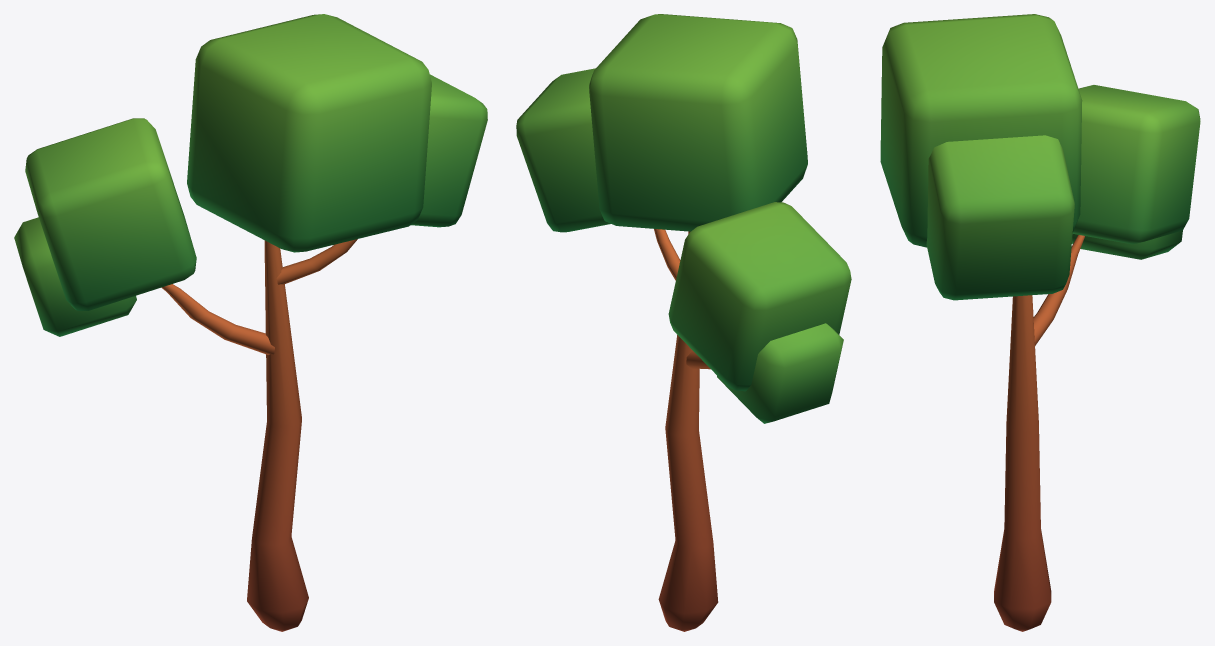
Rendered from Tree_2_C.glb.
3 views of the same model, side by side, from view 1: azimuth 30°, elevation 25°; view 2: azimuth 150°, elevation 25°; view 3: azimuth 270°, elevation 25° (orthographic). The views are drawn at different scales.
Parts seen in each view (by area): view 1: Tree_2_C_Color1; view 2: Tree_2_C_Color1; view 3: Tree_2_C_Color1.
Part boxes in pixels (left/top/right/bottom): Tree_2_C_Color1: left=14, top=14, right=487, bottom=631; Tree_2_C_Color1: left=516, top=14, right=851, bottom=631; Tree_2_C_Color1: left=880, top=14, right=1200, bottom=631.
Bounding box in the file's own units: 4.6 × 6.92 × 3.4.
Materials: 1 (1 with a texture image).
